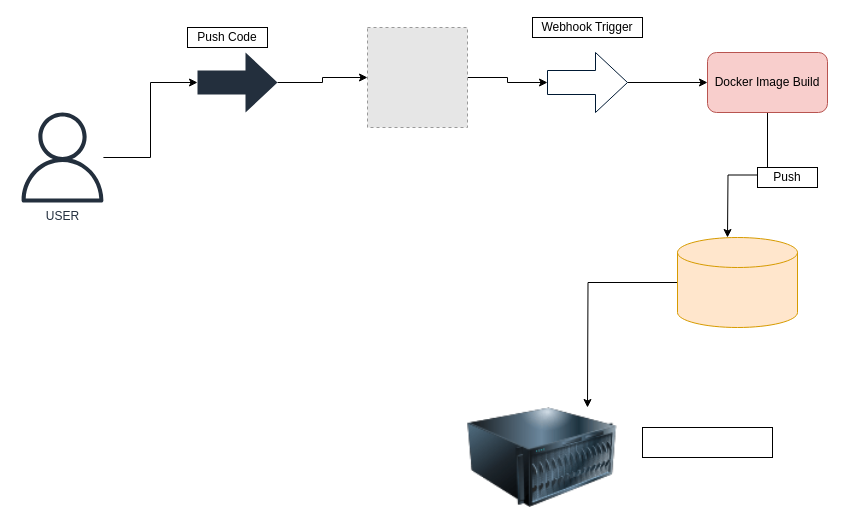
This 845x525 diagram has some shape labels left out. Grey dashed boxes stand in for pictures. The shapes that lost their labels are listed below. From the top down, each one's centre as x and y in pixels, then its label:
the point at 737,282: Docker Hub
the point at 707,442: Deploy to AWS server
